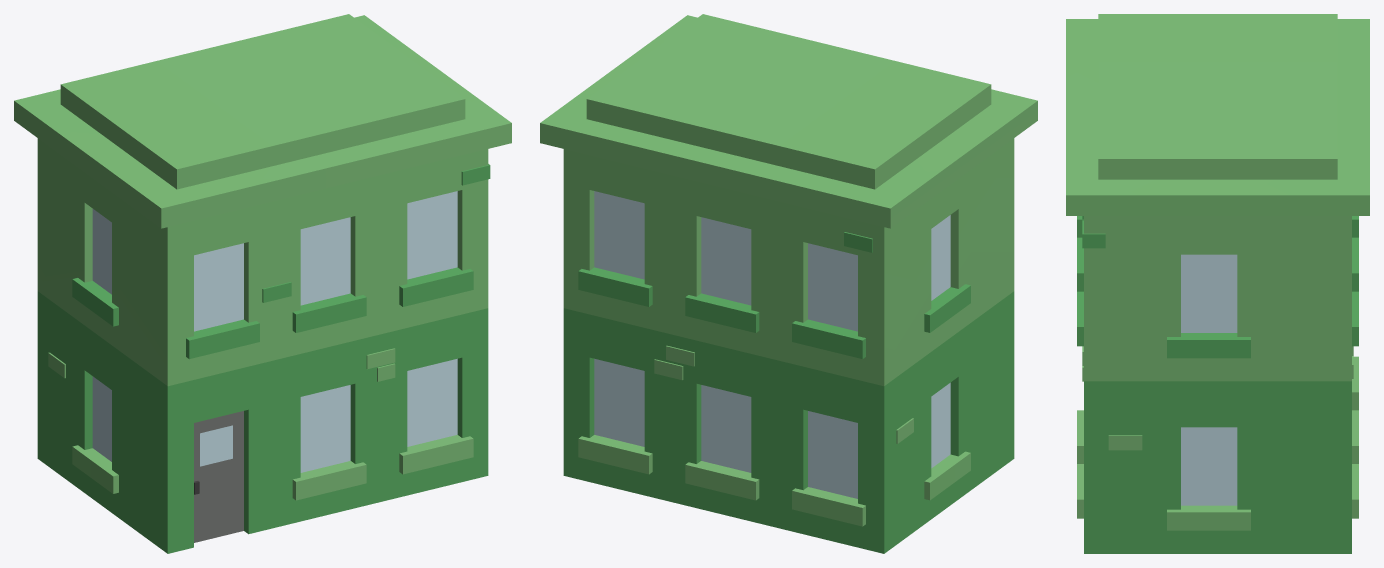
File: city_building_4.glb
3 renders of one model, left to right at view 1: azimuth 30°, elevation 25°; view 2: azimuth 150°, elevation 25°; view 3: azimuth 270°, elevation 25°, orthographic. The views are drawn at different scales.
Parts seen in each view (by area): view 1: Building_6_Mat_0; view 2: Building_6_Mat_0; view 3: Building_6_Mat_0.
Boxes of the visible parts, left/top/right/bottom form: Building_6_Mat_0: left=14, top=14, right=511, bottom=553; Building_6_Mat_0: left=540, top=14, right=1037, bottom=553; Building_6_Mat_0: left=1066, top=14, right=1369, bottom=553.
Bounding box in the file's own units: 3.57 × 3.66 × 2.6.
1 material, 1 textured.
